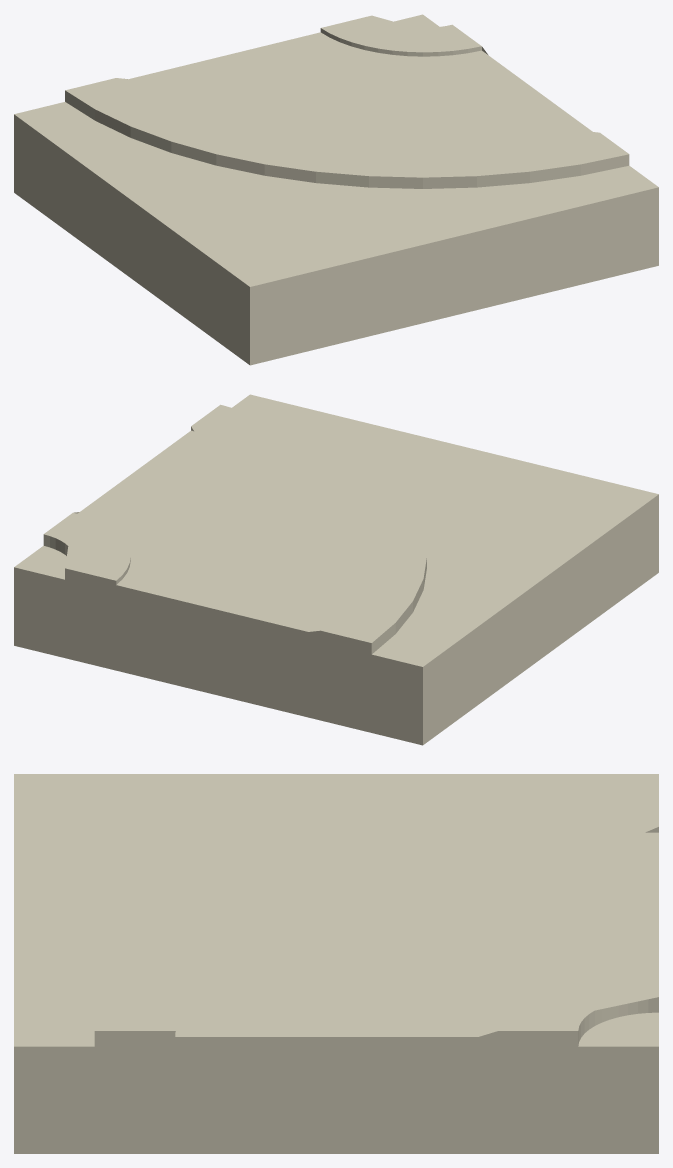
The model's file is roadtile_153.glb.
3 renders of one model, top to bottom at view 1: azimuth 30°, elevation 25°; view 2: azimuth 150°, elevation 25°; view 3: azimuth 270°, elevation 25°, orthographic. The views are drawn at different scales.
Visible parts, largest first — view 1: Mesh1 Group1 Model; view 2: Mesh1 Group1 Model; view 3: Mesh1 Group1 Model.
Part boxes in pixels (x1,y1,x2,y2): Mesh1 Group1 Model: [14, 14, 658, 365]; Mesh1 Group1 Model: [14, 394, 658, 745]; Mesh1 Group1 Model: [14, 774, 658, 1153].
Bounding box in the file's own units: 3 × 0.63 × 3.
